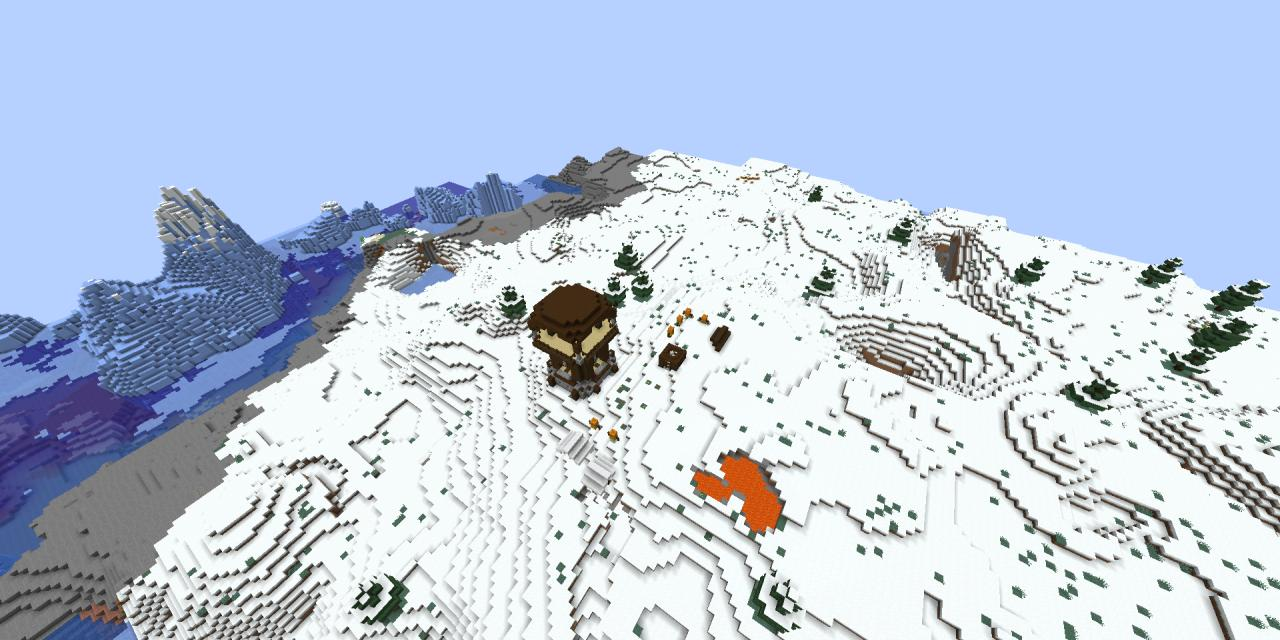pillager outpost: (522, 276, 622, 404)
